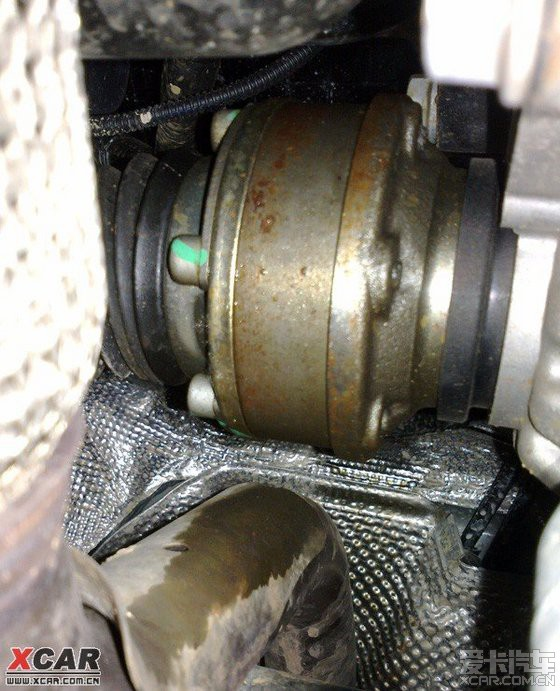oil: (123, 491, 324, 677)
